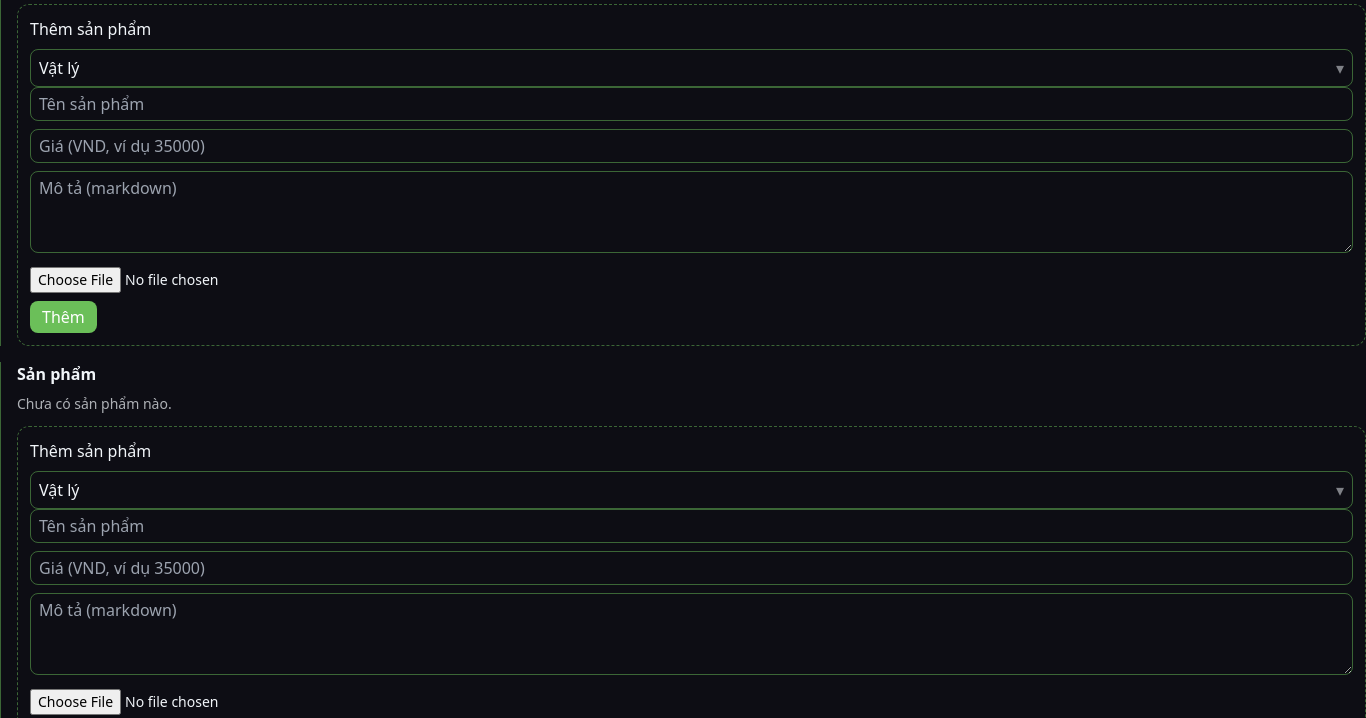
Test: AdminProducts - gacha products › shows the booth-only checkbox only for a gacha product being created
This screenshot has width=1366, height=718.
(page scrolled)
Click the button with aria-label "Vật lý" at (59, 490), box [30, 471, 1353, 509]
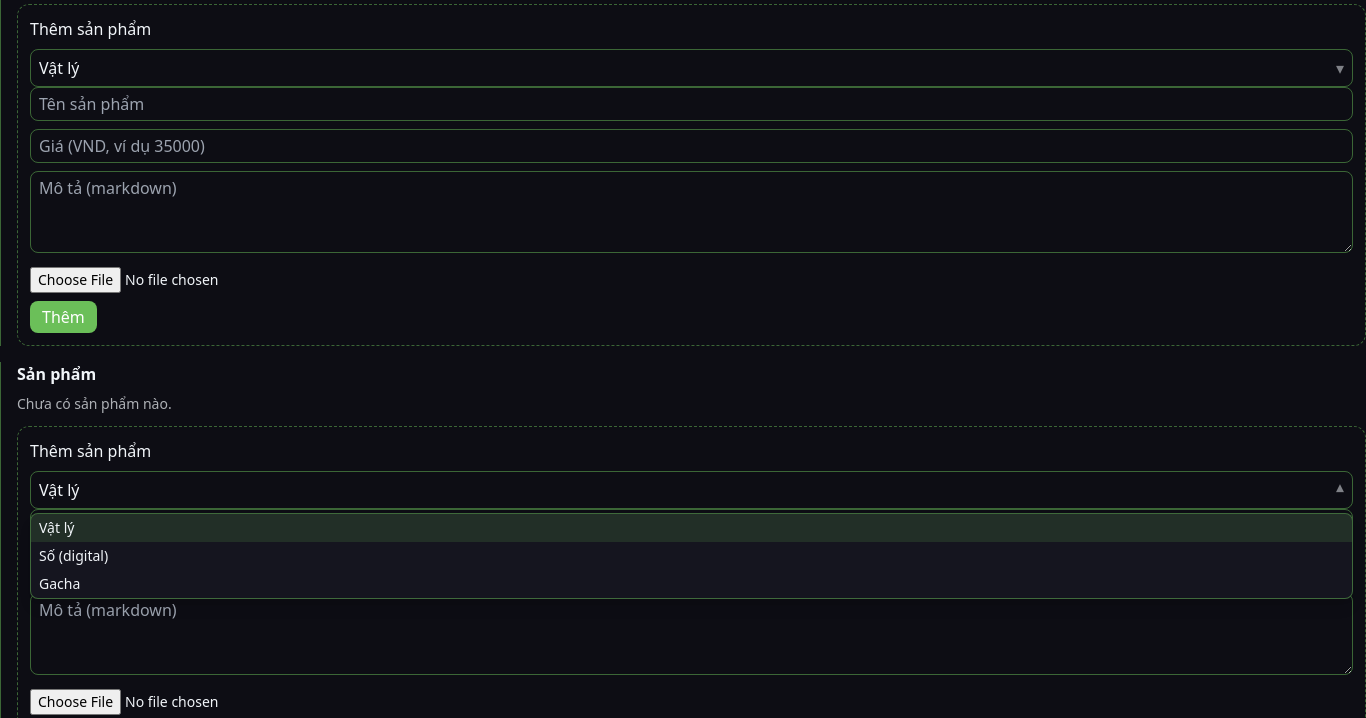
Click the button "Gacha" at (60, 584), box [31, 570, 1352, 598]
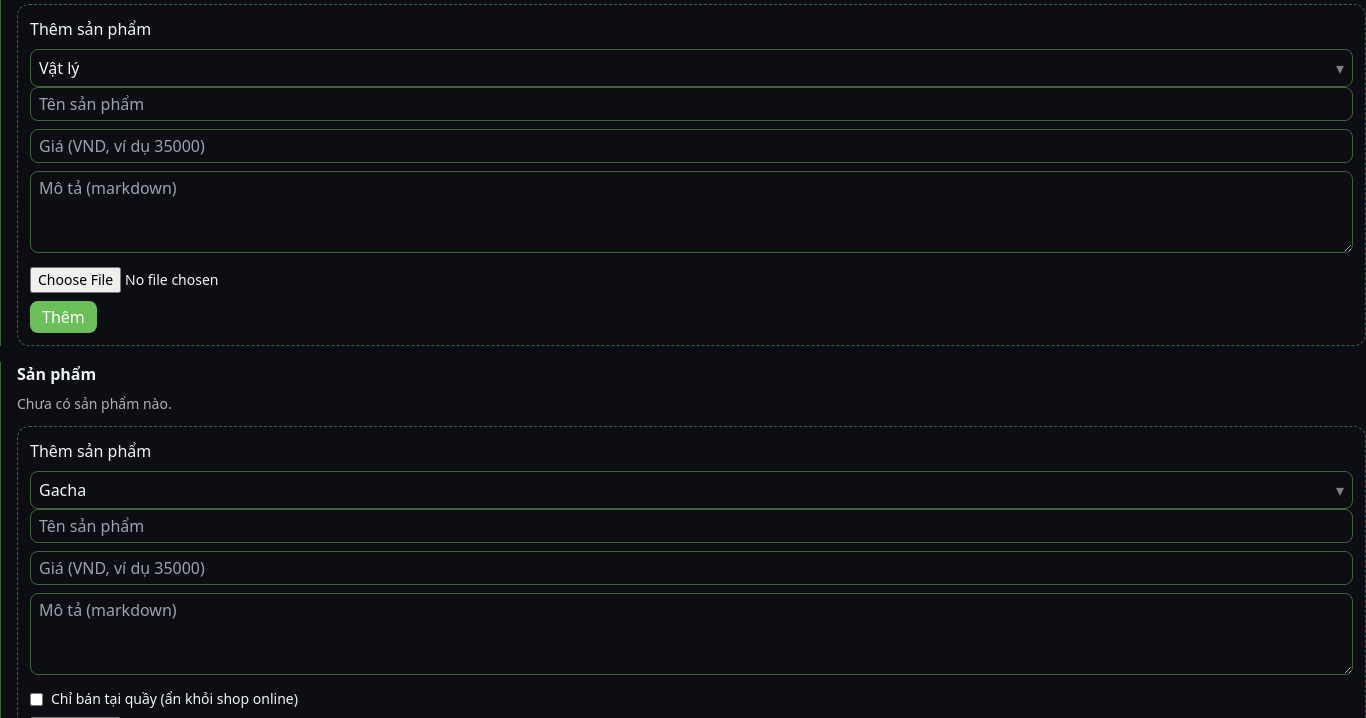
Expected: the checkbox labelled "Chỉ bán tại quầy (ẩn khỏi shop online)" is shown, [30, 692, 43, 706]
Expected: the text "Chỉ bán tại quầy" is shown, [51, 689, 298, 708]
